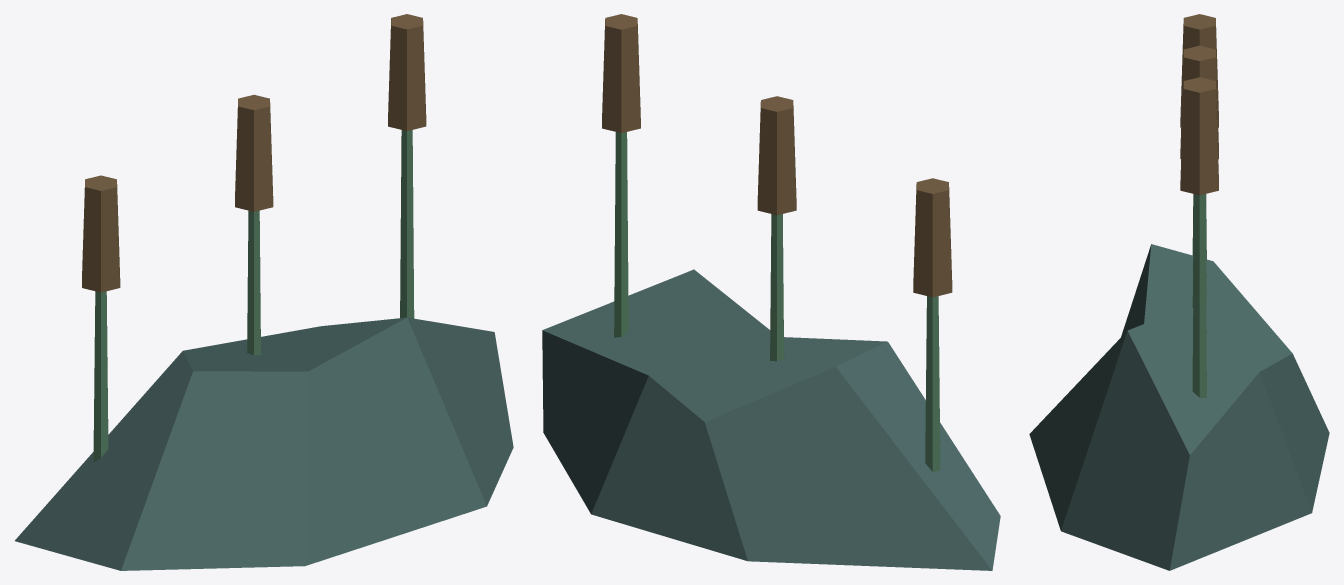
Rendered from map-boundaries-v5__lake_03.glb.
3 renders of one model, left to right at view 1: azimuth 30°, elevation 25°; view 2: azimuth 150°, elevation 25°; view 3: azimuth 270°, elevation 25°, orthographic.
Parts seen in each view (by area): view 1: lake_03; view 2: lake_03; view 3: lake_03.
Boxes of the visible parts, box(x1,y1,x2,y2) form: lake_03: box(15, 14, 513, 570); lake_03: box(542, 14, 1000, 570); lake_03: box(1029, 14, 1329, 570).
Bounding box in the file's own units: 1.48 × 1.31 × 0.8087.
